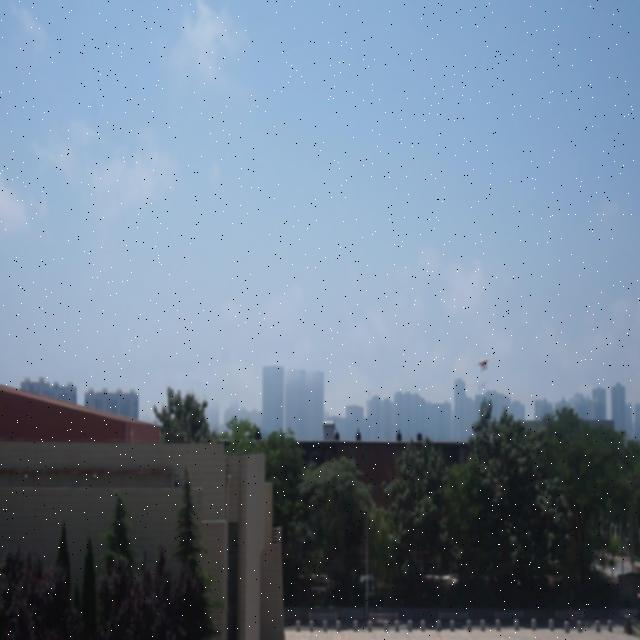UAV: (475, 357, 490, 372)
